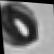correct: (0, 2, 41, 50)
